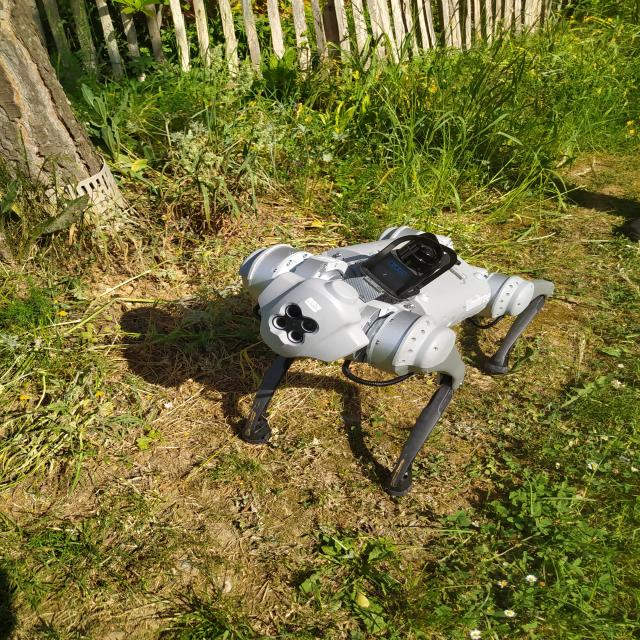unitree-go1-robot: (227, 216, 566, 492)
